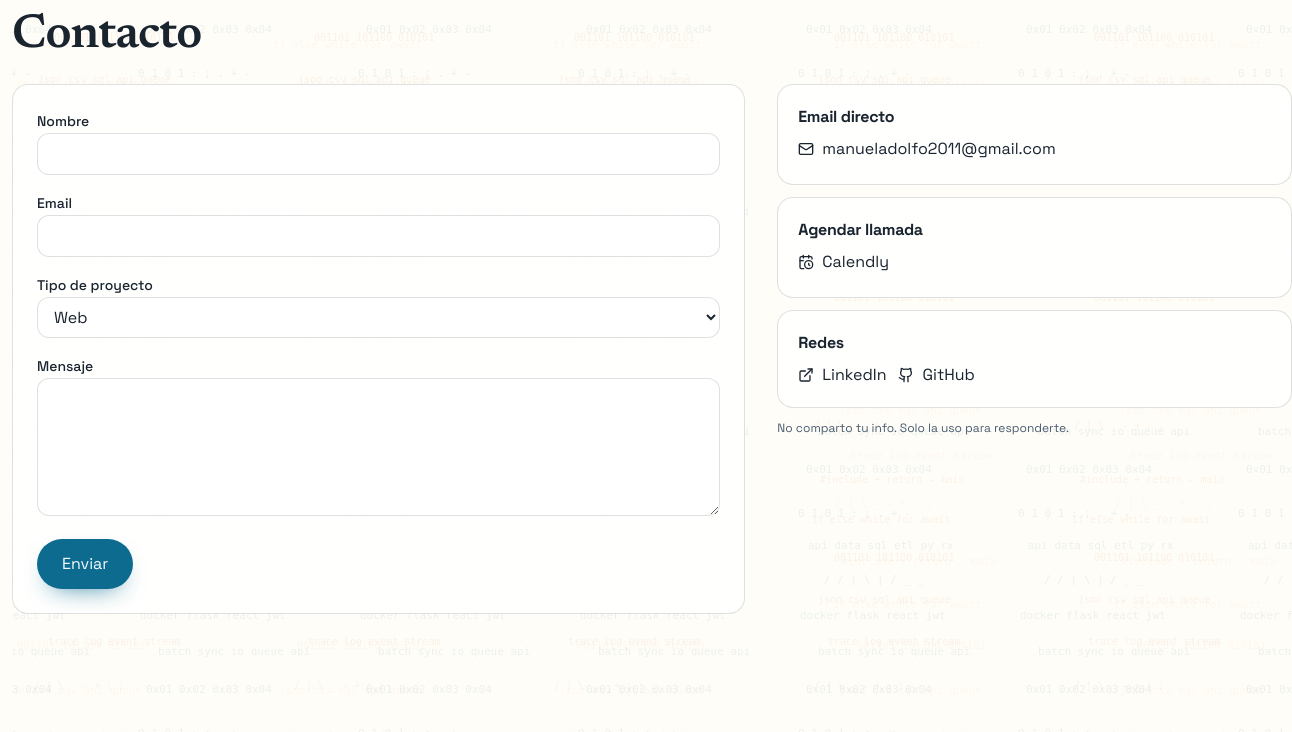
ContactSection › muestra error si no hay endpoint configurado
Type "Manuel" into the field labelled "Nombre" at (379, 154), box x1=37 y1=133 x2=720 y2=175
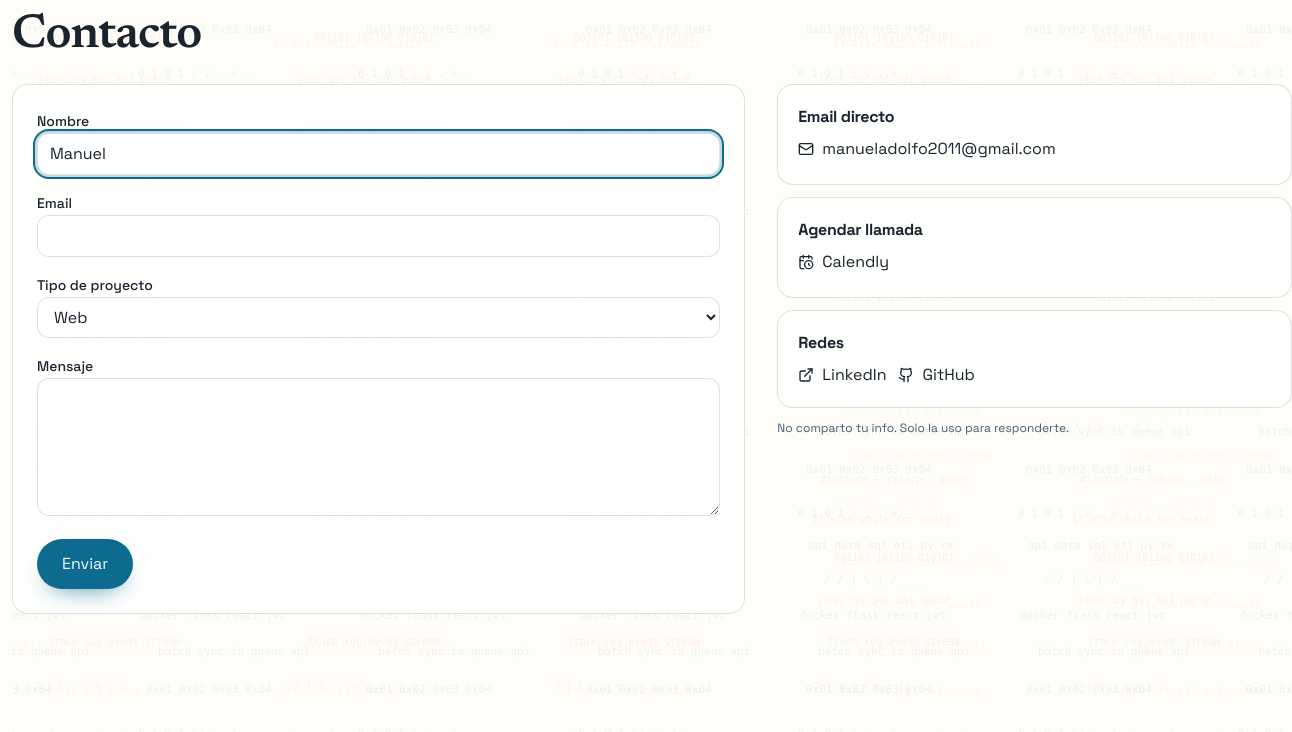
Type "manuel@email.com" into the field labelled "Email" at (379, 236), box x1=37 y1=215 x2=720 y2=257
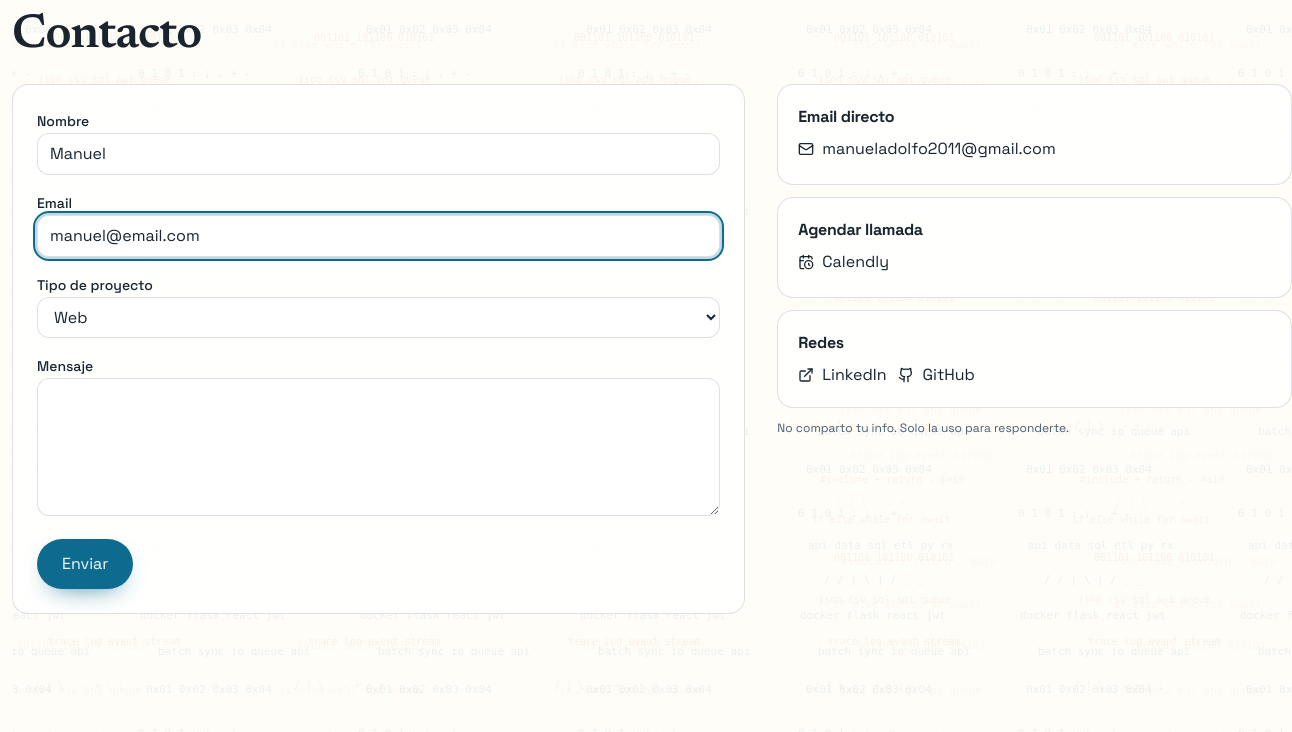
Type "Hola, quiero colaborar." into the text box labelled "Mensaje" at (379, 447), box x1=37 y1=378 x2=720 y2=516
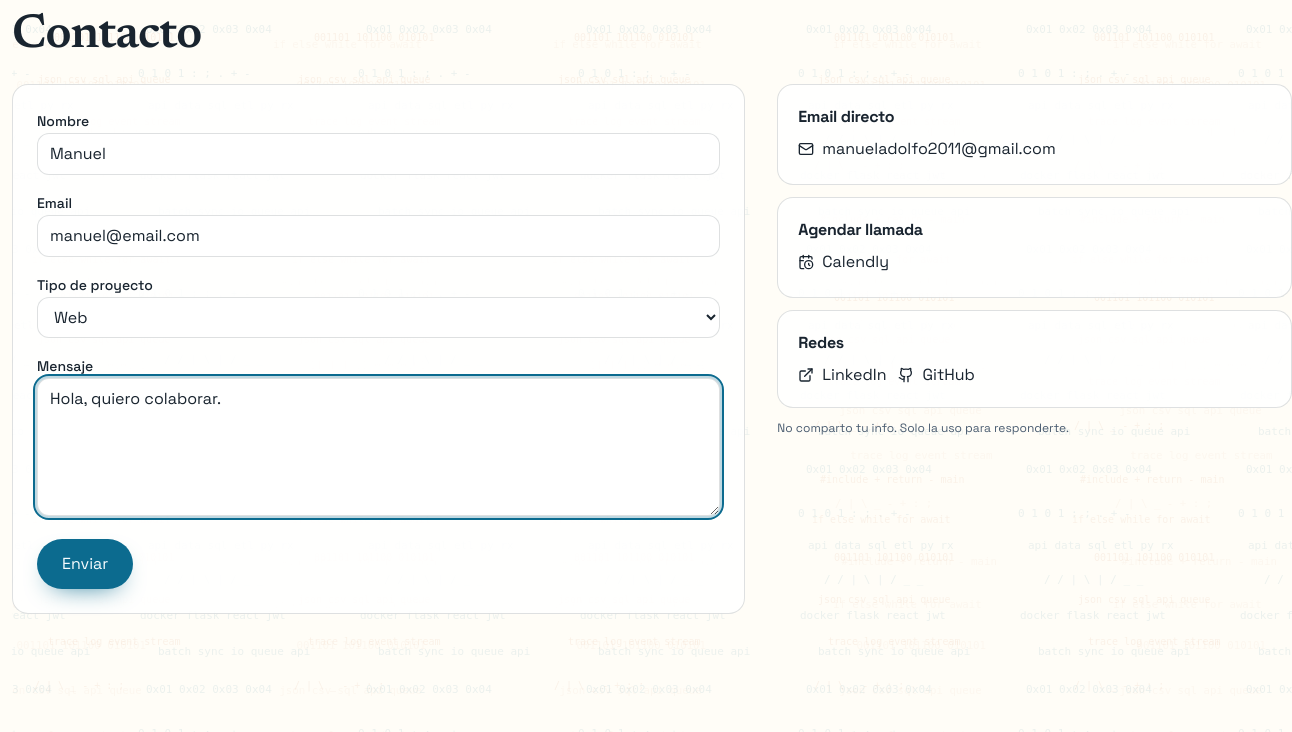
Click the button "Enviar" at (85, 564), box x1=37 y1=539 x2=133 y2=589
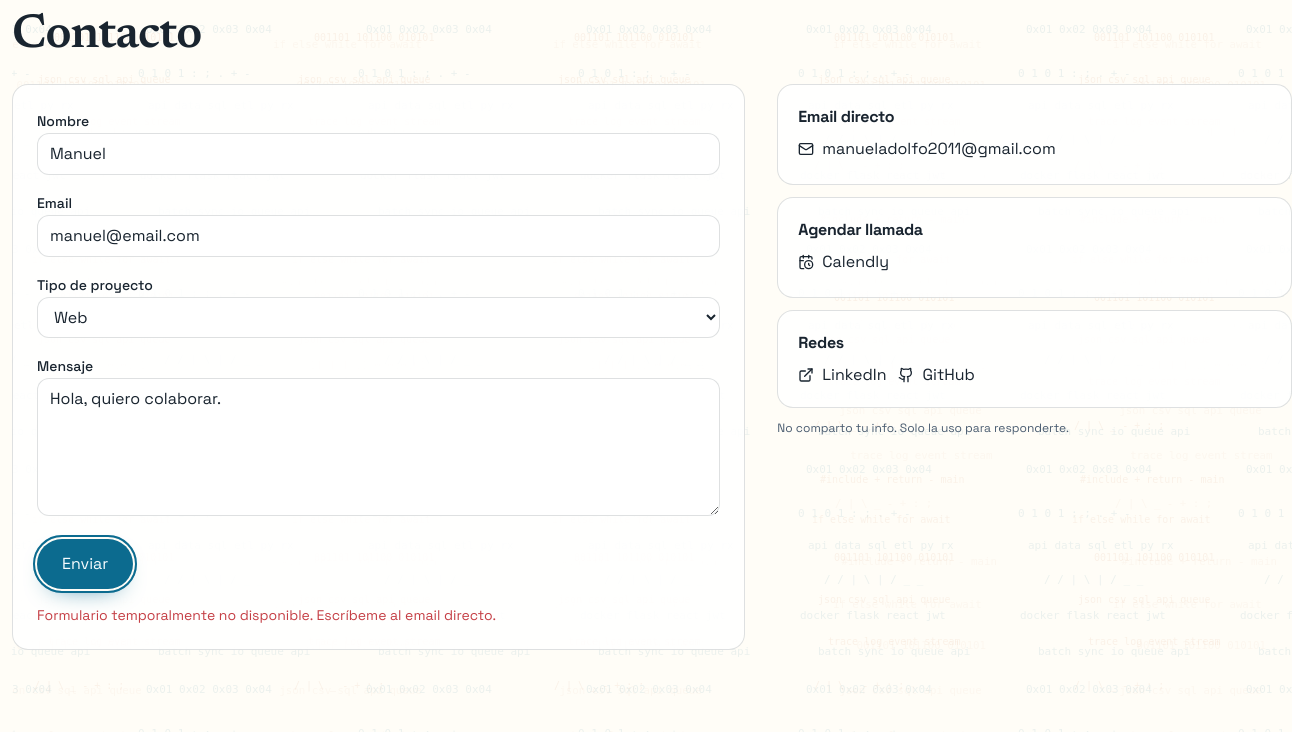
Expected: the text "Formulario temporalmente no disponible. Escríbeme al email directo." is shown, x1=37 y1=606 x2=496 y2=624
